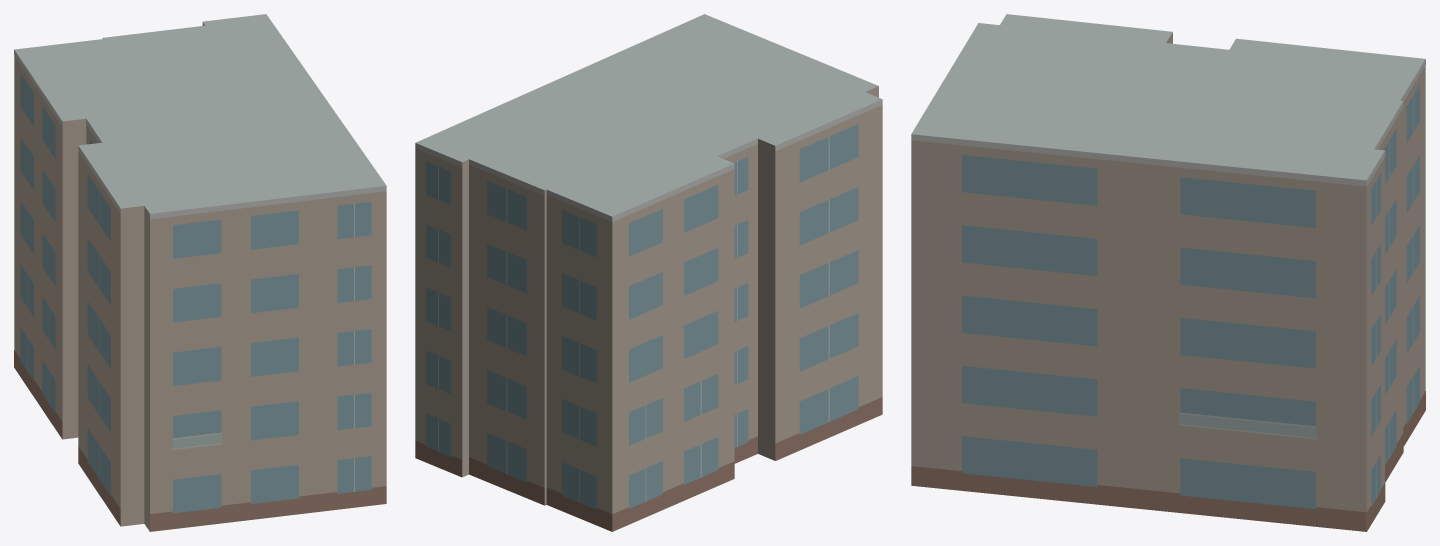
Rendered from survey-upis-32615755.glb.
3 renders of one model, left to right at view 1: azimuth 30°, elevation 25°; view 2: azimuth 150°, elevation 25°; view 3: azimuth 270°, elevation 25°, orthographic. The views are drawn at different scales.
Parts seen in each view (by area): view 1: survey-upis-32615755.tmp; view 2: survey-upis-32615755.tmp; view 3: survey-upis-32615755.tmp.
Part boxes in pixels (box(x1,y1,x2,y2)): survey-upis-32615755.tmp: box(14, 14, 386, 531); survey-upis-32615755.tmp: box(415, 14, 882, 531); survey-upis-32615755.tmp: box(911, 14, 1425, 531).
Bounding box in the file's own units: 14.43 × 14.2 × 18.86.
